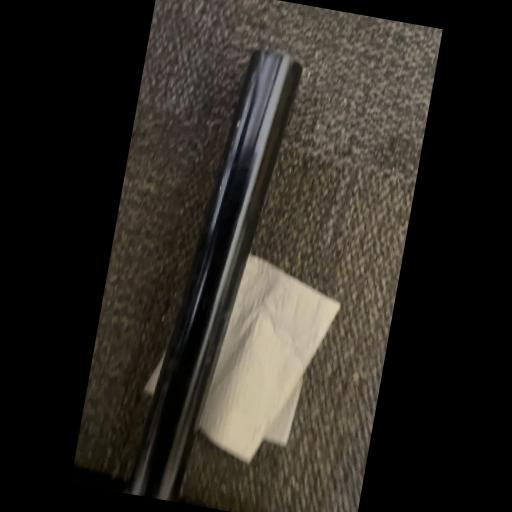napkin: (109, 222, 357, 484)
